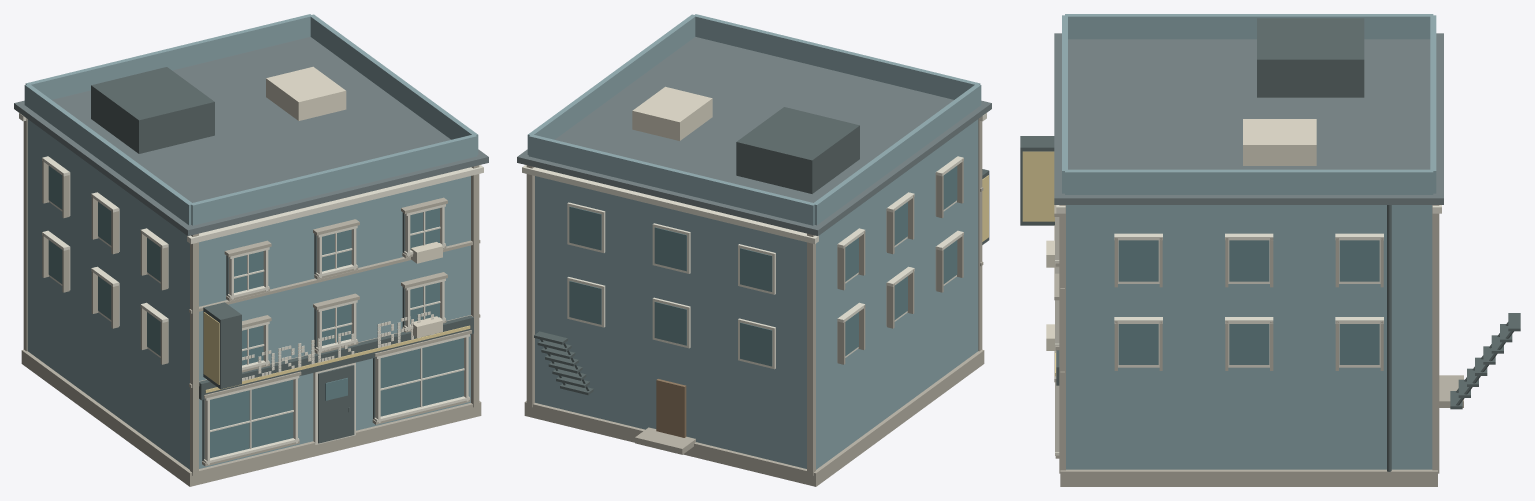
3 renders of one model, left to right at view 1: azimuth 30°, elevation 25°; view 2: azimuth 150°, elevation 25°; view 3: azimuth 270°, elevation 25°, orthographic. The views are drawn at different scales.
Size of the model in its own units: 12.7 by 11.83 by 16.3.
